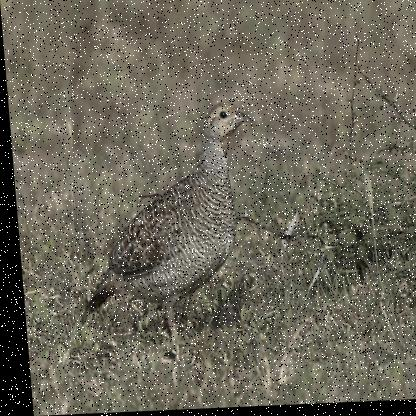Burung: (62, 102, 264, 351)
